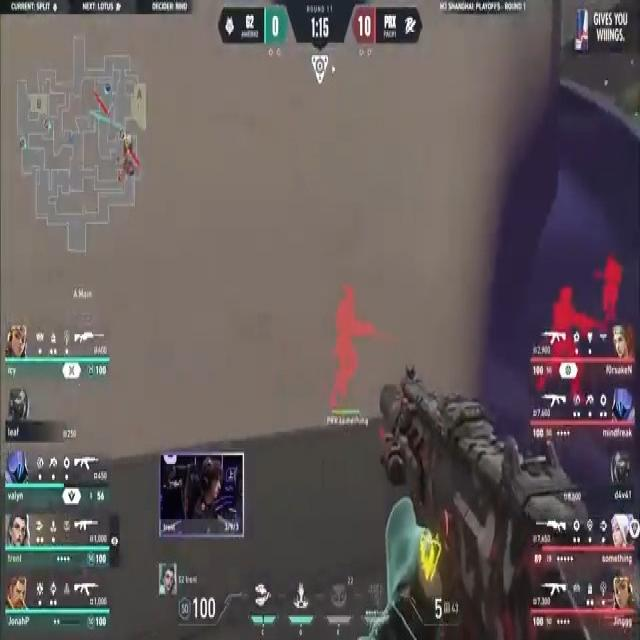enemy behind wall: (324, 282, 379, 411), (554, 285, 576, 413), (595, 255, 623, 317)
